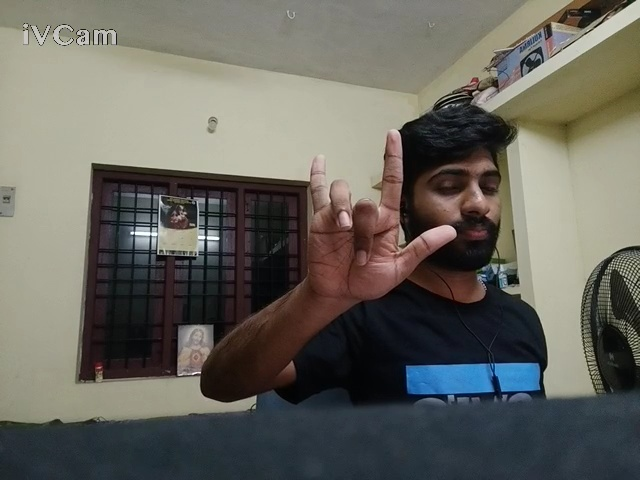I Love You: (272, 115, 476, 319)
